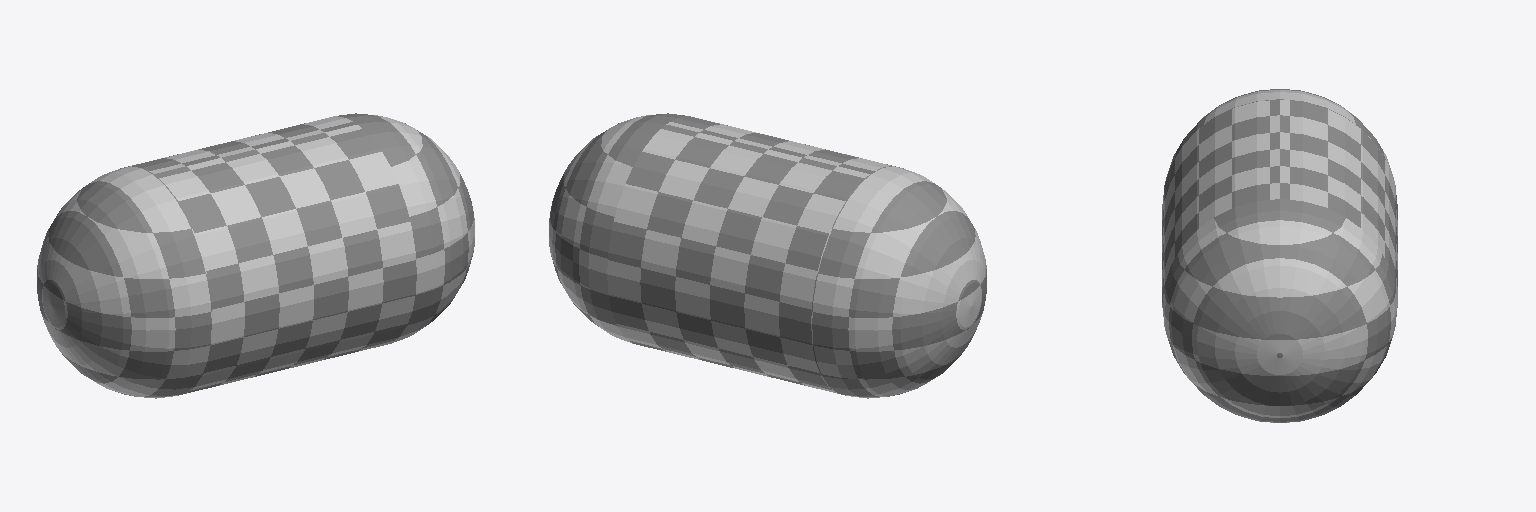
The picture shows the model from 3 angles: view 1: azimuth 30°, elevation 25°; view 2: azimuth 150°, elevation 25°; view 3: azimuth 270°, elevation 25°; orthographic projection.
Visible parts, largest first — view 1: Sphere; view 2: Sphere; view 3: Sphere.
Part boxes in pixels (x1,y1,x2,y2): Sphere: (37,113,474,398); Sphere: (549,113,986,398); Sphere: (1162,89,1397,422).
Size of the model in its own units: 2 by 1 by 1.
1 materials, 1 textured.